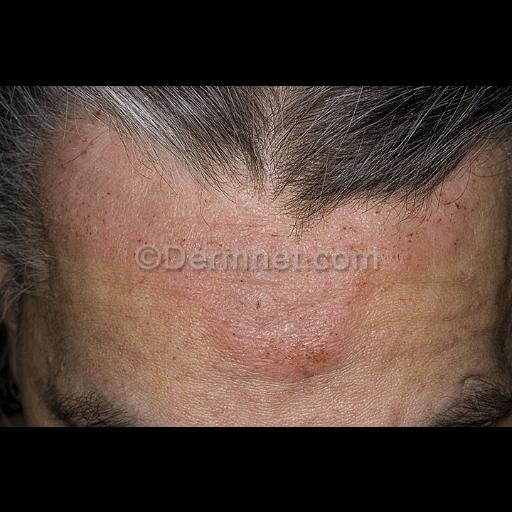Skin_Lesion: (271, 338, 339, 386), (216, 282, 278, 328), (292, 280, 346, 328)
